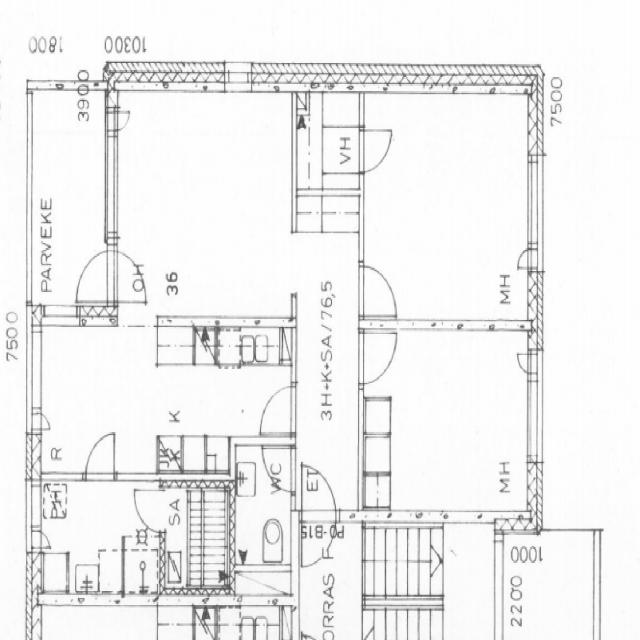door: (295, 458, 339, 561), (354, 317, 401, 391), (72, 244, 116, 318), (254, 377, 300, 445), (356, 258, 402, 320), (355, 119, 398, 172), (129, 479, 168, 537), (83, 427, 119, 485), (109, 103, 135, 134)
window: (396, 313, 511, 342), (522, 138, 548, 255), (522, 354, 546, 472), (100, 122, 122, 240), (24, 310, 46, 418)
zone: (112, 88, 299, 334), (361, 90, 536, 327), (25, 327, 288, 473), (361, 327, 536, 522), (37, 477, 135, 603), (228, 438, 294, 602), (162, 477, 230, 594), (441, 521, 501, 640), (300, 540, 360, 640), (122, 538, 164, 600)
